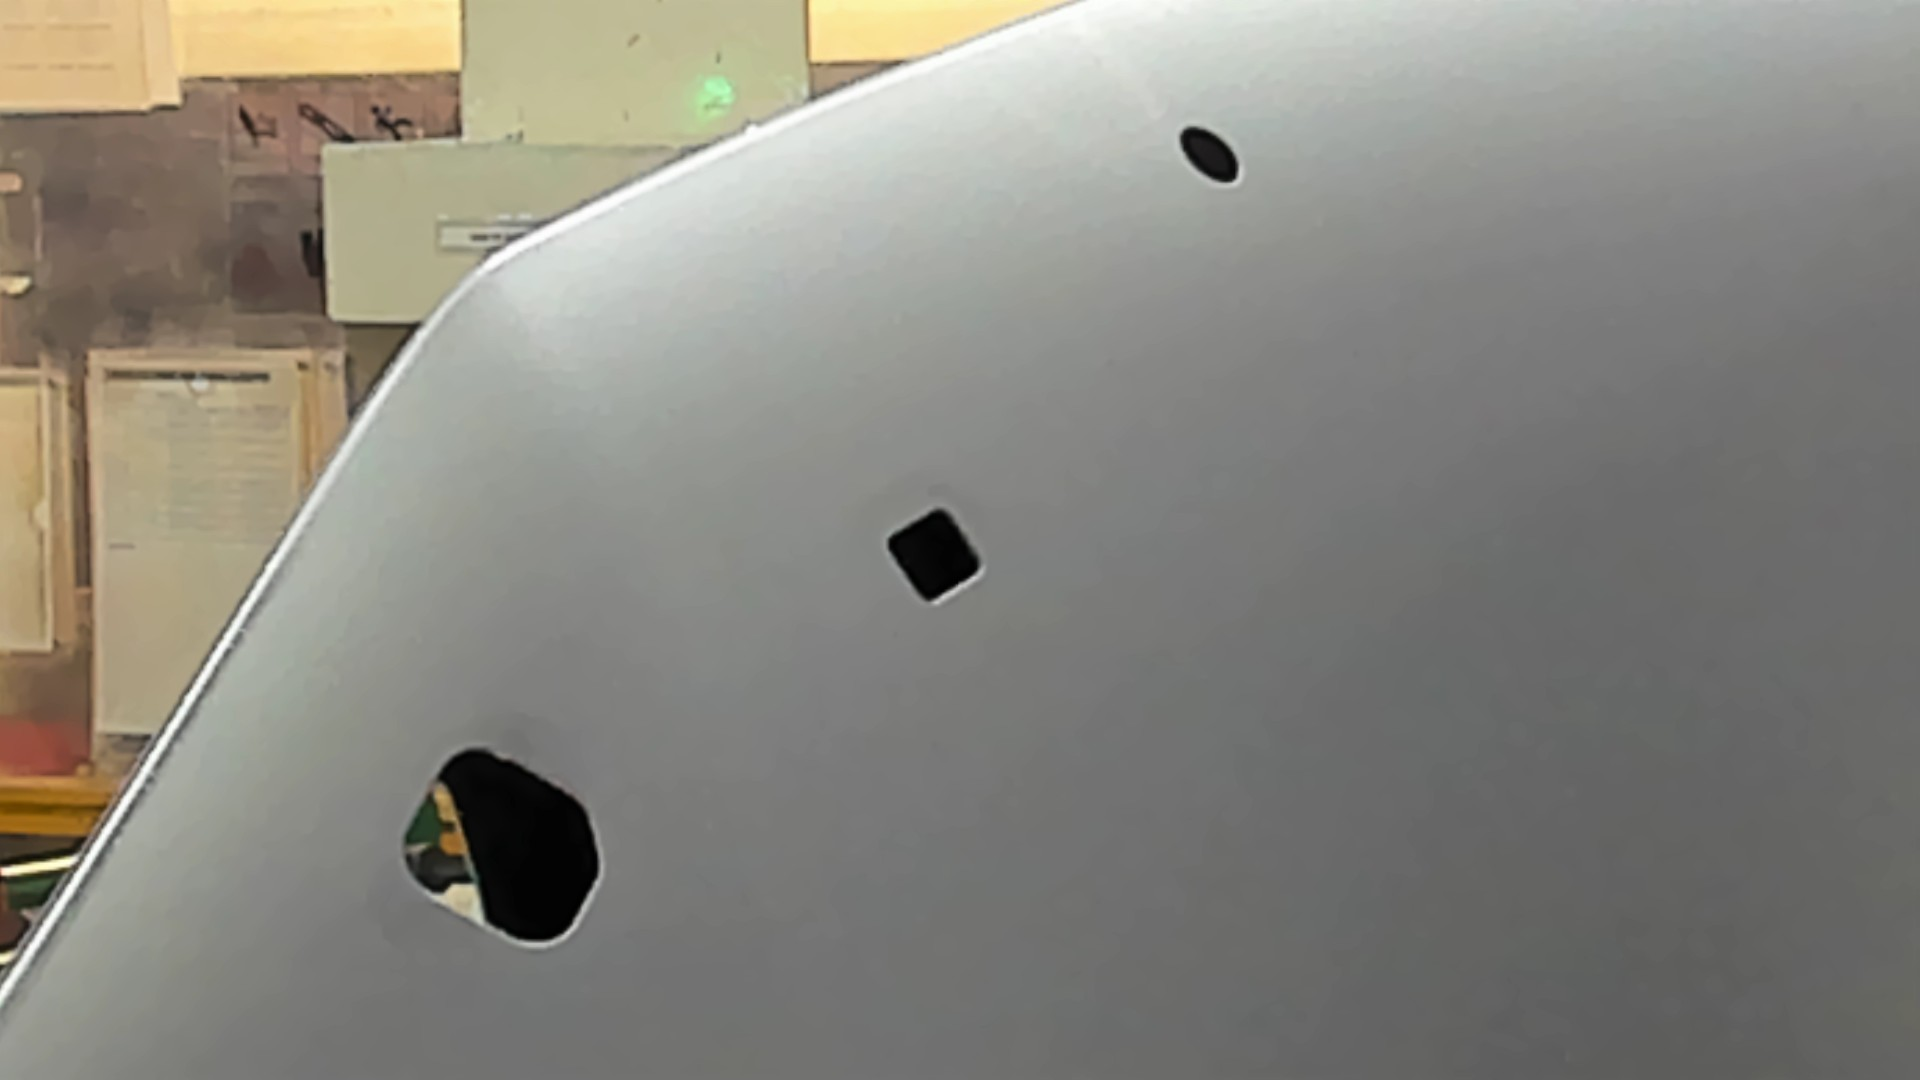chico: (1153, 113, 1263, 204)
grande: (380, 724, 645, 971)
mediano: (866, 491, 1021, 626)
